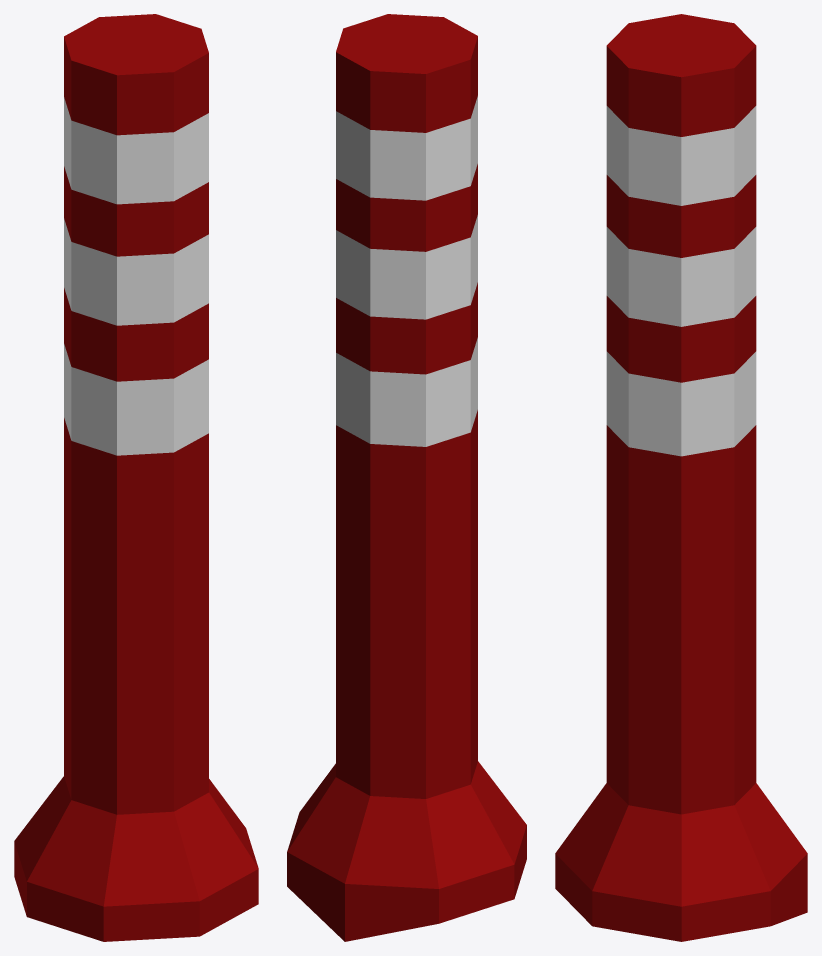
Rendered from Bollard.FBX.
3 renders of one model, left to right at view 1: azimuth 30°, elevation 25°; view 2: azimuth 150°, elevation 25°; view 3: azimuth 270°, elevation 25°, orthographic. The views are drawn at different scales.
Visible parts, largest first — view 1: Cylinder037; view 2: Cylinder037; view 3: Cylinder037.
Boxes of the visible parts, x1,y1,x2,y2 form: Cylinder037: (14,14,258,941); Cylinder037: (287,14,526,941); Cylinder037: (555,14,807,941).
Bounding box in the file's own units: 6.79 × 25.75 × 6.79.
